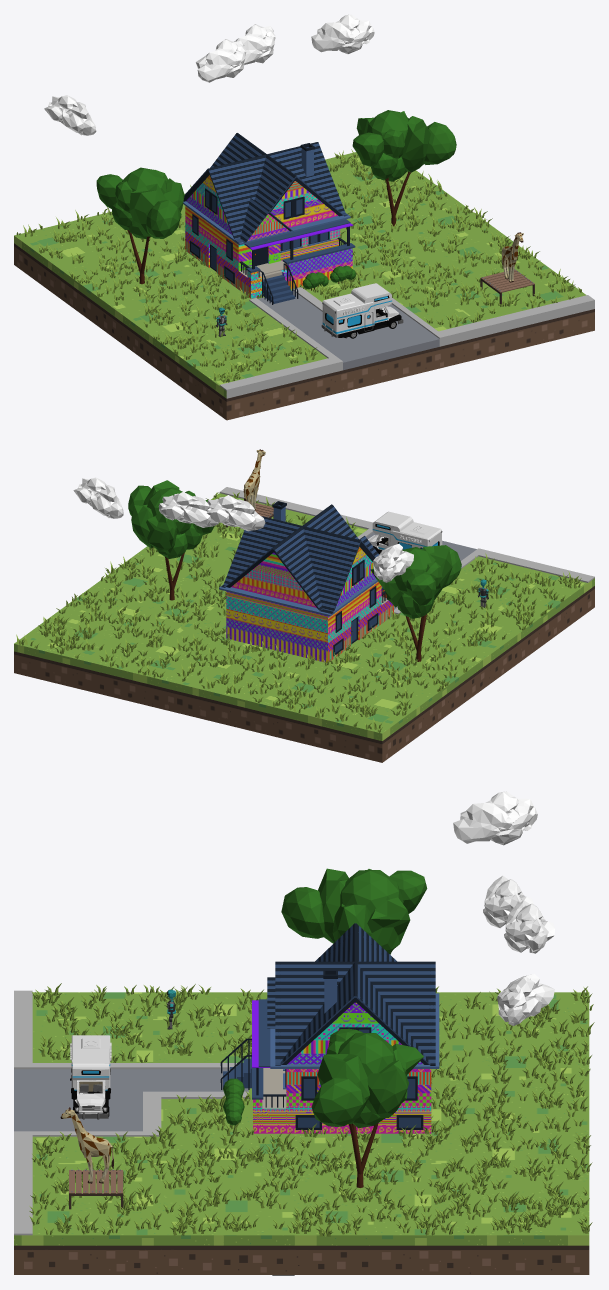
The picture shows the model from 3 angles, top to bottom: view 1: azimuth 30°, elevation 25°; view 2: azimuth 150°, elevation 25°; view 3: azimuth 270°, elevation 25°; orthographic projection. The views are drawn at different scales.
Parts seen in each view (by area): view 1: Cube.006, Cube.676, Circle.012_Grass_0.192, Cube.007, tree, tree.001, VEHICLES_CAMPER, Cube.009, ANIMAL_JIRAFA; view 2: Cube.006, Cube.676, Circle.012_Grass_0.192, Cube.007, tree.001, tree, VEHICLES_CAMPER, ANIMAL_JIRAFA; view 3: Cube.006, Circle.012_Grass_0.192, Cube.676, tree, Cube.007, tree.001, VEHICLES_CAMPER, Cube.009, ANIMAL_JIRAFA.
Part boxes in pixels (x1,y1,x2,y2): Cube.006: (14, 152, 594, 420); Cube.676: (183, 133, 355, 304); Circle.012_Grass_0.192: (16, 149, 581, 382); Cube.007: (44, 14, 374, 135); tree: (352, 110, 456, 226); tree.001: (96, 167, 184, 284); VEHICLES_CAMPER: (321, 283, 403, 338); Cube.009: (480, 269, 534, 303); ANIMAL_JIRAFA: (501, 232, 523, 282); Cube.006: (14, 487, 594, 762); Cube.676: (219, 501, 393, 662); Circle.012_Grass_0.192: (16, 492, 581, 732); Cube.007: (73, 477, 413, 582); tree.001: (370, 545, 461, 661); tree: (128, 480, 214, 600); VEHICLES_CAMPER: (368, 511, 442, 554); ANIMAL_JIRAFA: (243, 449, 265, 509); Cube.006: (14, 990, 589, 1274); Circle.012_Grass_0.192: (29, 983, 594, 1236); Cube.676: (220, 923, 439, 1133); tree: (311, 1028, 423, 1187); Cube.007: (453, 791, 554, 1025); tree.001: (281, 868, 427, 954); VEHICLES_CAMPER: (70, 1035, 111, 1119); Cube.009: (69, 1169, 123, 1209); ANIMAL_JIRAFA: (60, 1107, 113, 1183).
Size of the model in its own units: 4071 by 2184 by 4040.
Materials: 41 (7 with a texture image).
